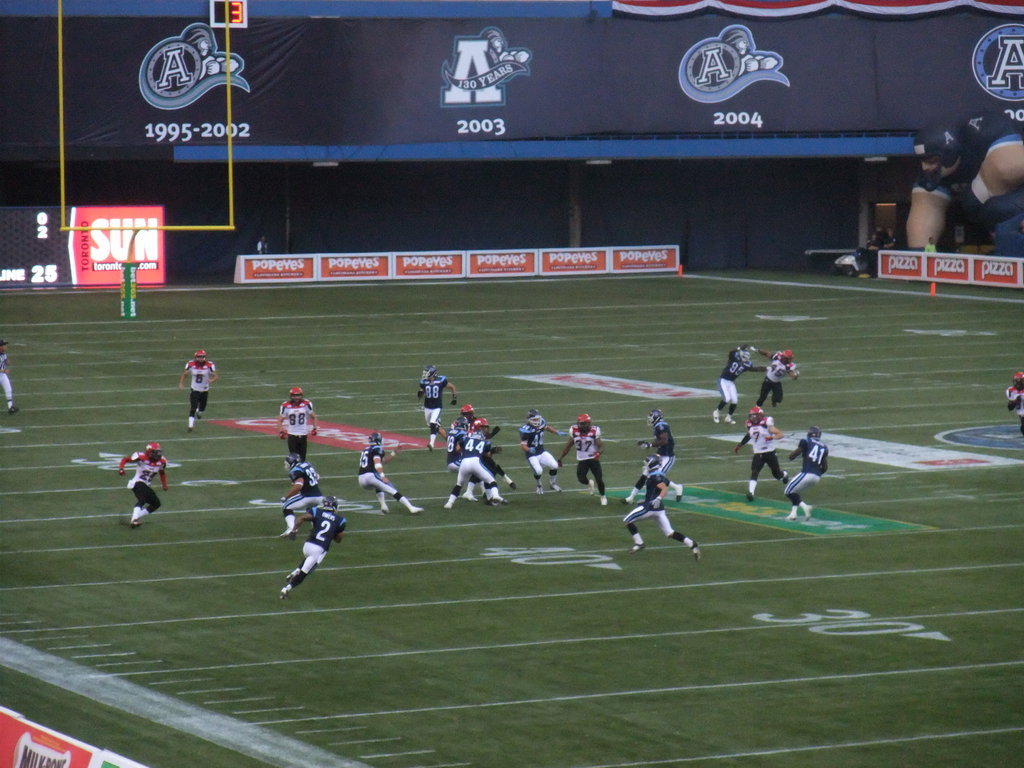Person: (0, 22, 1023, 599)
